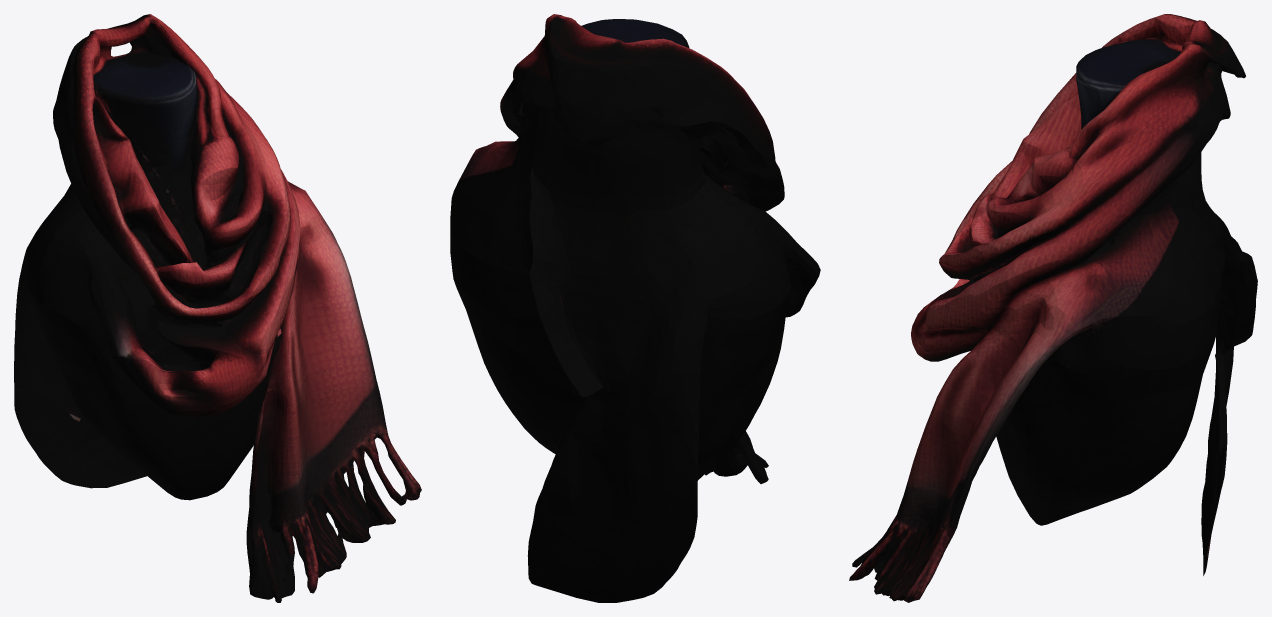
File: bamboo-fiber-scarf-vintage.jpeg.glb
The picture shows the model from 3 angles, left to right: view 1: azimuth 30°, elevation 25°; view 2: azimuth 150°, elevation 25°; view 3: azimuth 270°, elevation 25°; orthographic projection. The views are drawn at different scales.
Visible parts, largest first — view 1: world; view 2: world; view 3: world.
Boxes of the visible parts, x1=… form: world: x1=14, y1=14, x2=421, y2=602; world: x1=450, y1=14, x2=820, y2=602; world: x1=849, y1=14, x2=1257, y2=602.
Bounding box in the file's own units: 0.6502 × 1 × 0.6925.
1 material, 1 textured.
